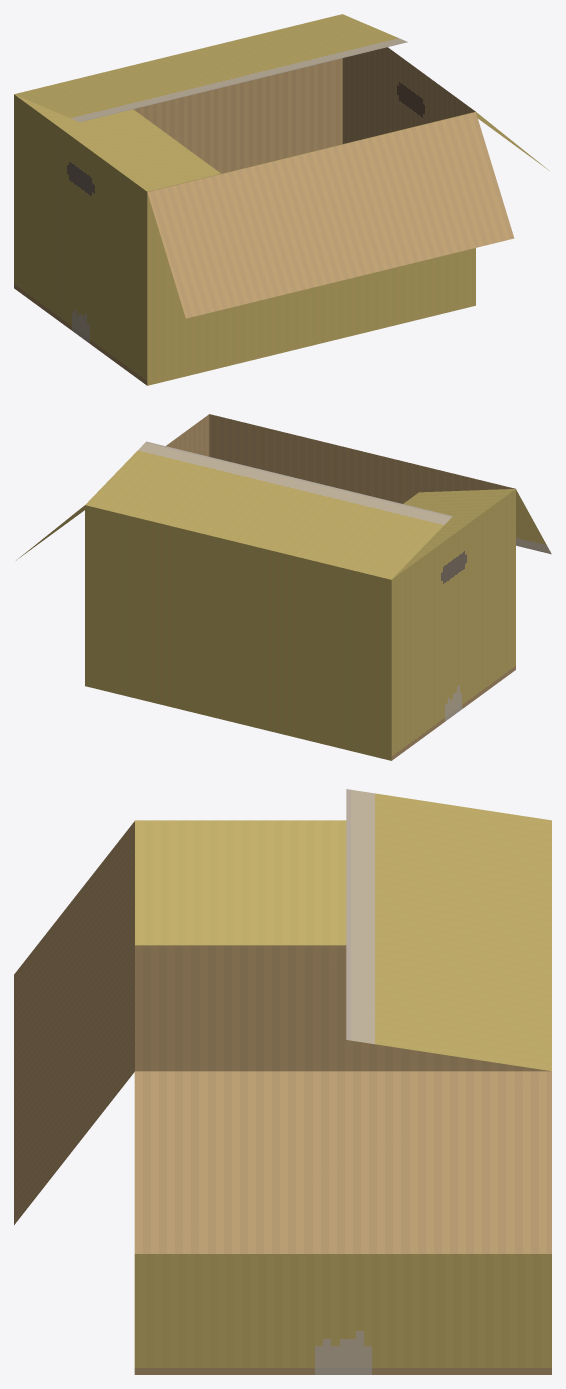
The model's file is 0491_Cardboard_Box.glb.
3 renders of one model, top to bottom at view 1: azimuth 30°, elevation 25°; view 2: azimuth 150°, elevation 25°; view 3: azimuth 270°, elevation 25°, orthographic. The views are drawn at different scales.
Visible parts, largest first — view 1: part_0; view 2: part_0; view 3: part_0.
Part boxes in pixels (x1,y1,x2,y2): part_0: [14, 14, 549, 385]; part_0: [16, 414, 551, 760]; part_0: [14, 789, 551, 1374].
Bounding box in the file's own units: 0.5644 × 0.2854 × 0.4153.
Materials: 1 (1 with a texture image).
